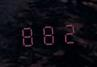eight: (39, 20, 58, 46), (18, 22, 37, 47)
two: (59, 19, 78, 44)
